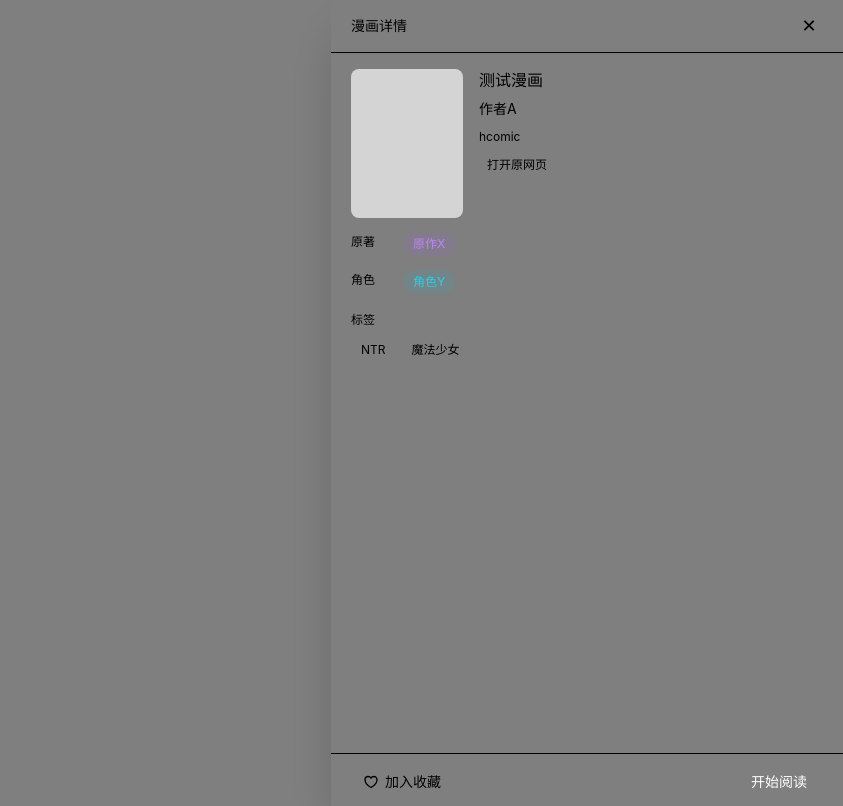
Scenario: ComicInfoDrawer - 点击 tag 加入搜索 › 点击标签后显示「已加入搜索」Toast 提示
Click the button "NTR" at (373, 350), box [351, 338, 396, 362]
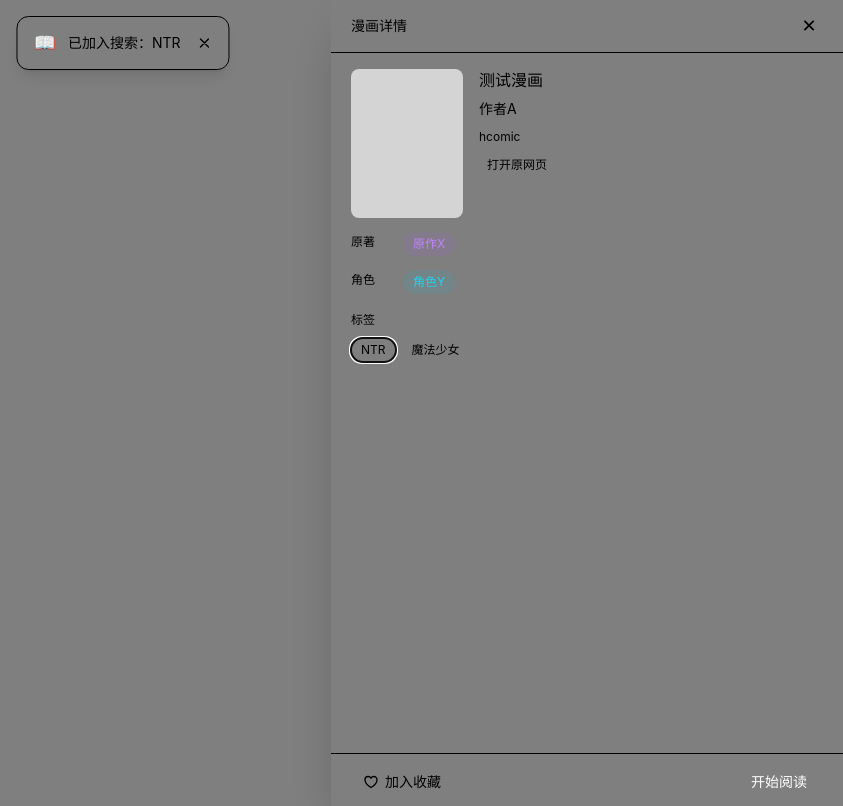
Expected: the text "已加入搜索：NTR" is shown, [68, 33, 180, 53]
